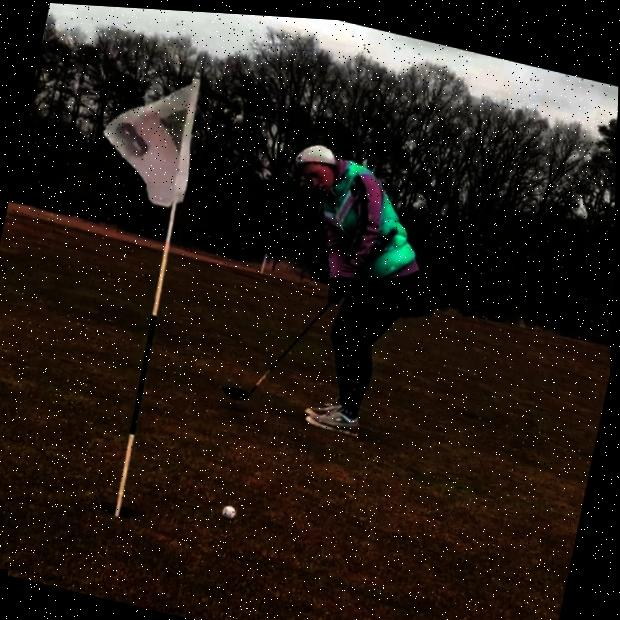ClubHead: (222, 381, 250, 399)
GolfBall: (224, 500, 243, 519)
